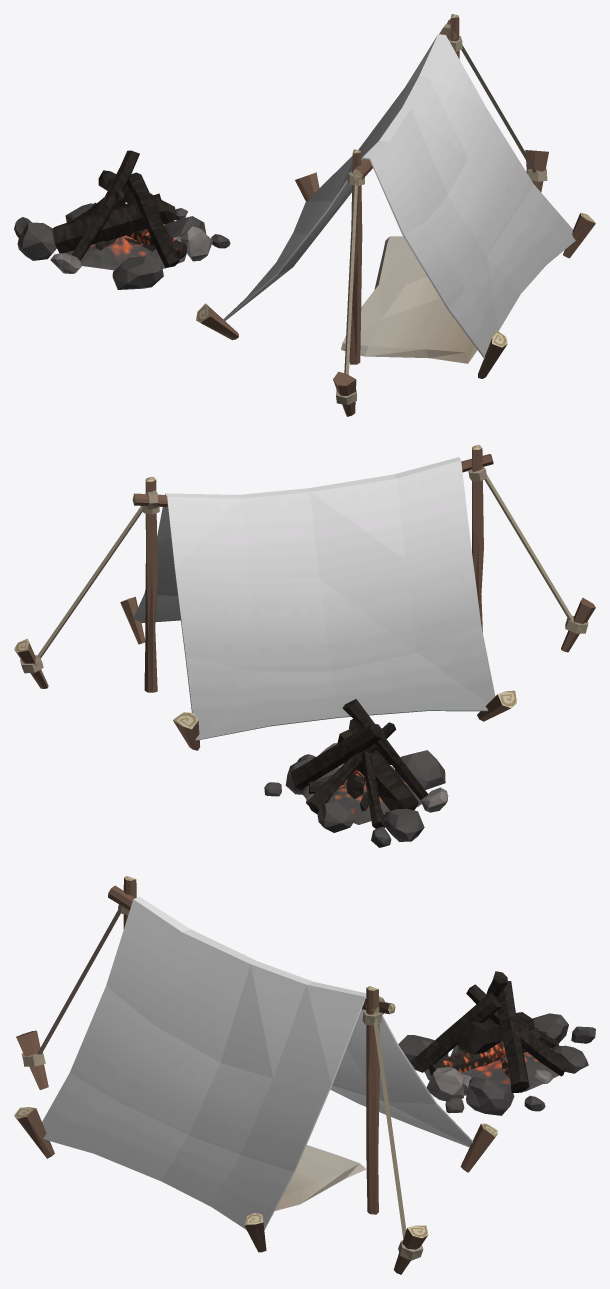
The model's file is safecamp01.fbx.
The picture shows the model from 3 angles, top to bottom: view 1: azimuth 30°, elevation 25°; view 2: azimuth 150°, elevation 25°; view 3: azimuth 270°, elevation 25°; orthographic projection. The views are drawn at different scales.
Parts seen in each view (by area): view 1: safecamp01; view 2: safecamp01; view 3: safecamp01.
Part boxes in pixels (left/top/right/bottom): safecamp01: left=14, top=14, right=595, bottom=416; safecamp01: left=14, top=445, right=595, bottom=847; safecamp01: left=14, top=876, right=595, bottom=1274.
Bounding box in the file's own units: 4.82 × 2.21 × 4.9.
3 materials, 3 textured.
